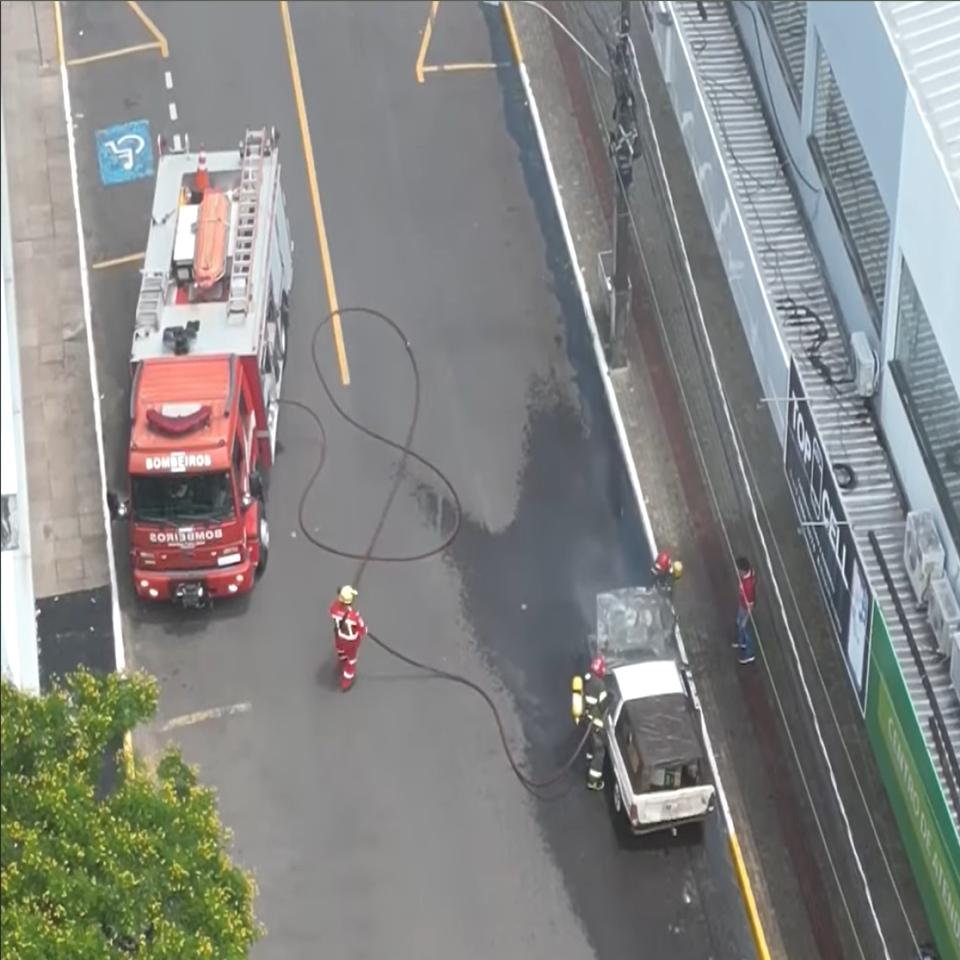bombeiro: (104, 130, 300, 616)
